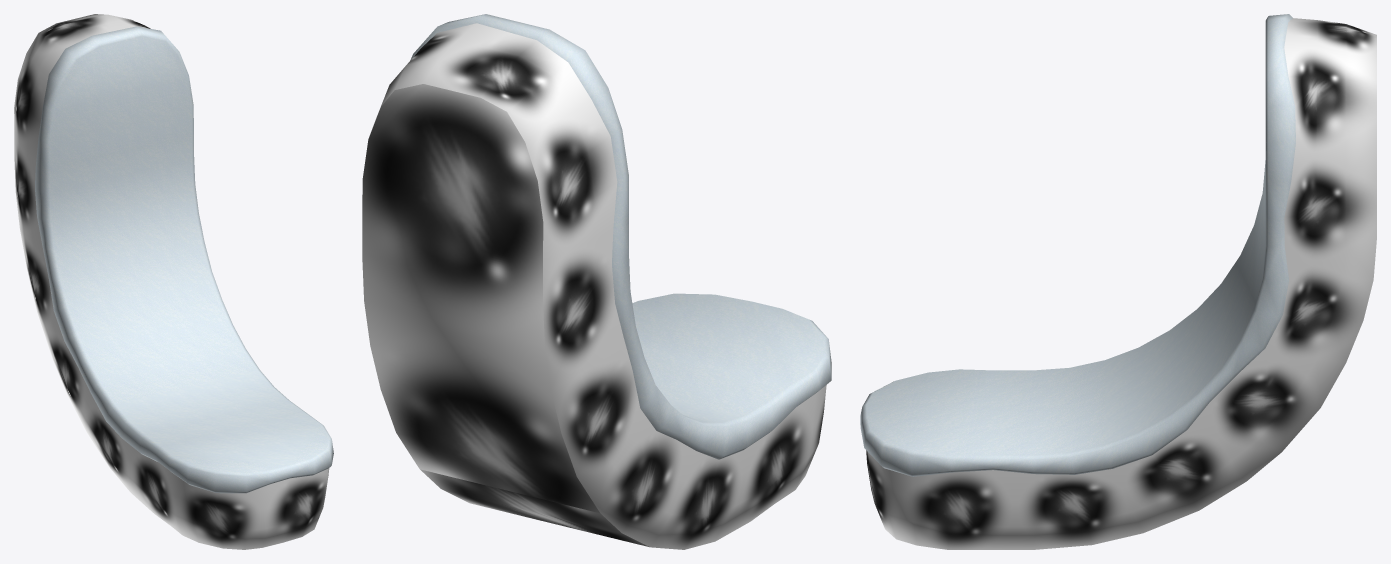
Rendered from SnowBowlingStepC.fbx.
The picture shows the model from 3 angles, left to right: view 1: azimuth 30°, elevation 25°; view 2: azimuth 150°, elevation 25°; view 3: azimuth 270°, elevation 25°; orthographic projection. The views are drawn at different scales.
Visible parts, largest first — view 1: Plane.000, Plane.002; view 2: Plane.002, Plane.000; view 3: Plane.002, Plane.000.
Boxes of the visible parts, <box> form: Plane.000: <box>35,26,333,493</box>; Plane.002: <box>14,14,329,549</box>; Plane.002: <box>362,23,826,549</box>; Plane.000: <box>410,14,831,459</box>; Plane.002: <box>866,18,1376,549</box>; Plane.000: <box>860,14,1295,476</box>.
Bounding box in the file's own units: 124179 × 304325 × 295259.
2 materials, 2 textured.
